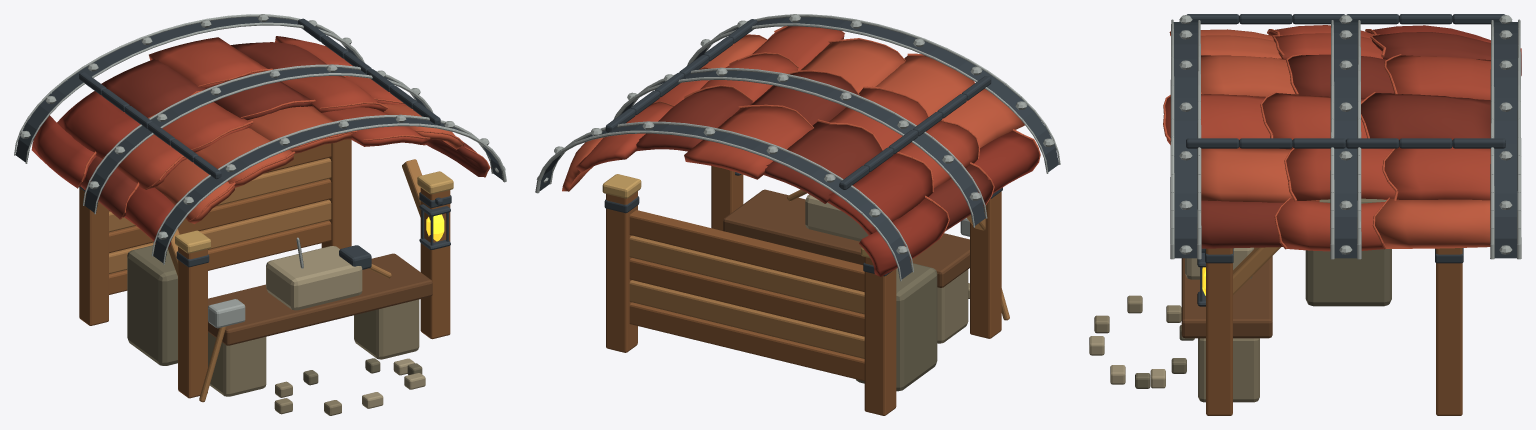
Rendered from source.glb.
3 views of the same model, side by side, from view 1: azimuth 30°, elevation 25°; view 2: azimuth 150°, elevation 25°; view 3: azimuth 270°, elevation 25° (orthographic). The views are drawn at different scales.
Visible parts, largest first — view 1: stonemason; view 2: stonemason; view 3: stonemason.
Boxes of the visible parts, x1,y1,x2,y2 form: stonemason: (14, 14, 506, 415); stonemason: (535, 14, 1060, 415); stonemason: (1089, 14, 1521, 415).
Size of the model in its own units: 4.87 by 3.42 by 4.51.
